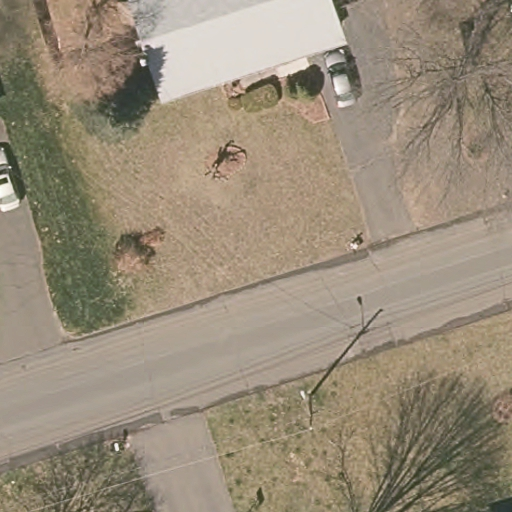DT: (304, 418, 320, 435)
